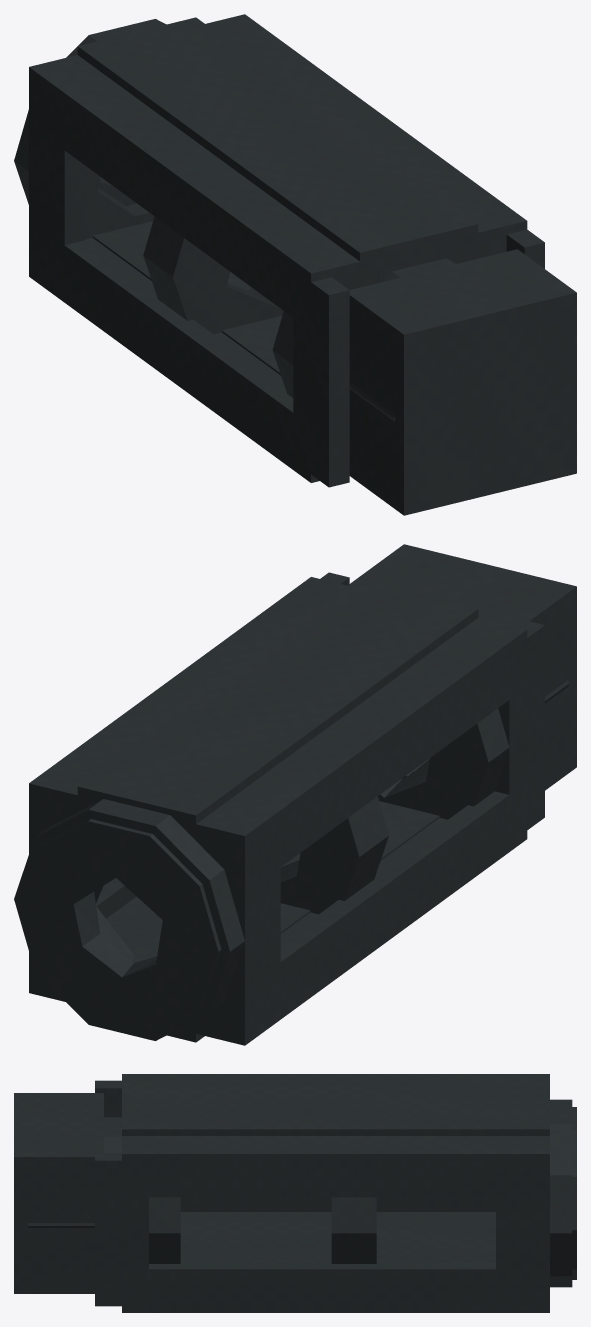
Rendered from g36_muzzle.glb.
3 views of the same model, one above another, from view 1: azimuth 30°, elevation 25°; view 2: azimuth 150°, elevation 25°; view 3: azimuth 270°, elevation 25° (orthographic). The views are drawn at different scales.
Visible parts, largest first — view 1: muzzle__g36_muzzle_LOD1_RAID_Secondary_Original_steel, muzzle__g36_muzzle_LOD0_RAID_Secondary_Original_steel; view 2: muzzle__g36_muzzle_LOD1_RAID_Secondary_Original_steel, muzzle__g36_muzzle_LOD0_RAID_Secondary_Original_steel; view 3: muzzle__g36_muzzle_LOD1_RAID_Secondary_Original_steel, muzzle__g36_muzzle_LOD0_RAID_Secondary_Original_steel.
Boxes of the visible parts, x1,y1,x2,y2 form: muzzle__g36_muzzle_LOD1_RAID_Secondary_Original_steel: (29,14,576,515); muzzle__g36_muzzle_LOD0_RAID_Secondary_Original_steel: (14,17,478,421); muzzle__g36_muzzle_LOD1_RAID_Secondary_Original_steel: (29,544,576,1045); muzzle__g36_muzzle_LOD0_RAID_Secondary_Original_steel: (14,580,568,1042); muzzle__g36_muzzle_LOD1_RAID_Secondary_Original_steel: (14,1074,549,1312); muzzle__g36_muzzle_LOD0_RAID_Secondary_Original_steel: (27,1085,576,1287).
Size of the model in its own units: 0.042 by 0.0422 by 0.125.
Materials: 1 (1 with a texture image).
